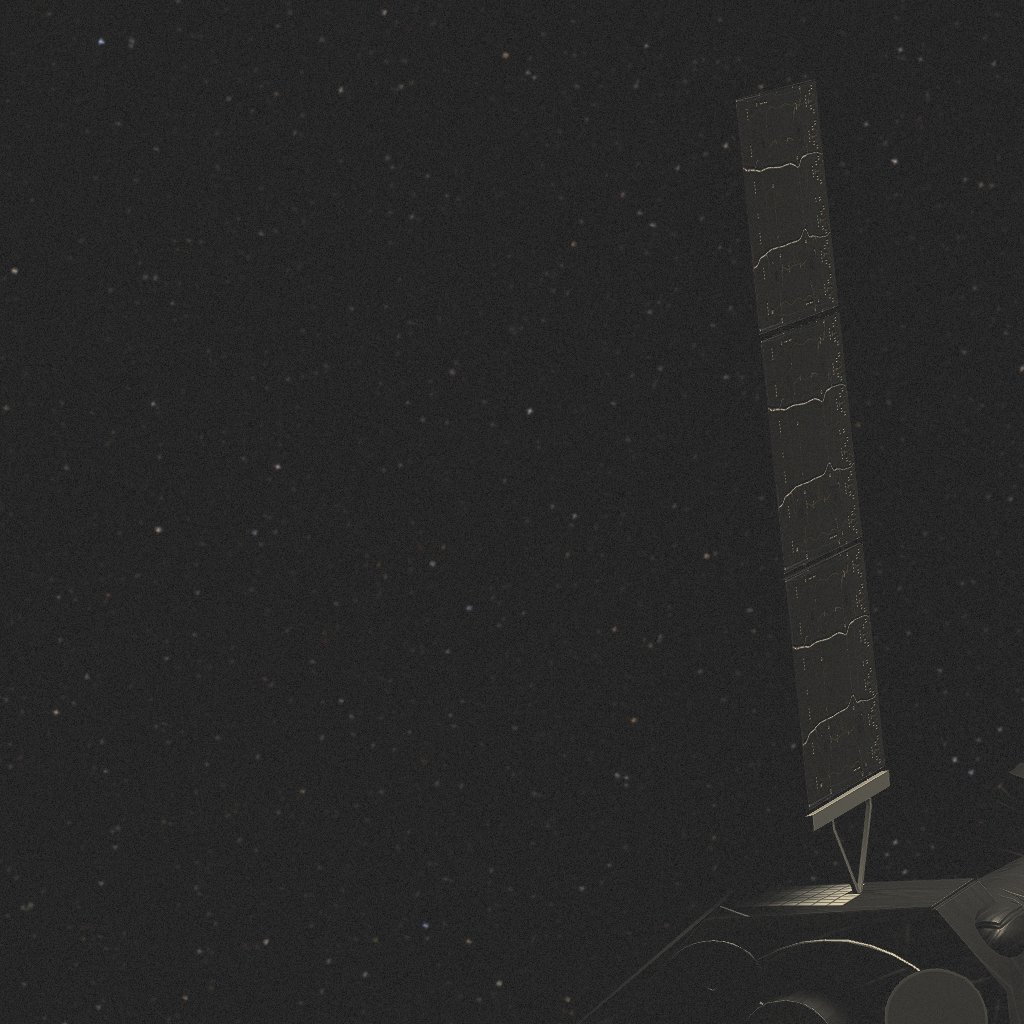xmm_newton: (576, 81, 1024, 1024)
